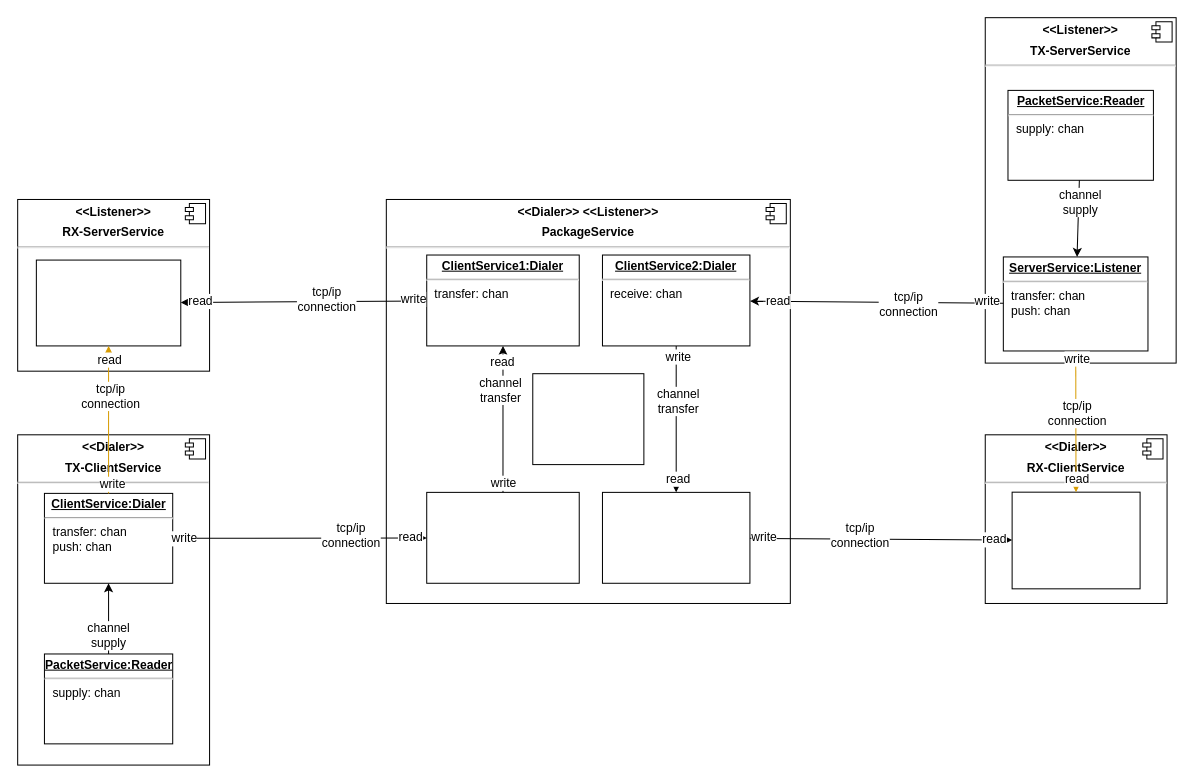
The diagram is 1194 pixels wide and 783 high, and some of its shapes have lost their labels. Here are the shapes that lost their labels. From the top down, the centre of each, then its label:
At point 108,302: "ServerService:Listener receive: chan".
At point 588,419: ":Transform".
At point 502,537: "ServerService1:Listener forward: chan".
At point 675,537: "ServerService2:Listener notify: chan".
At point 1075,540: "ClientService:Dialer receive: chan".
